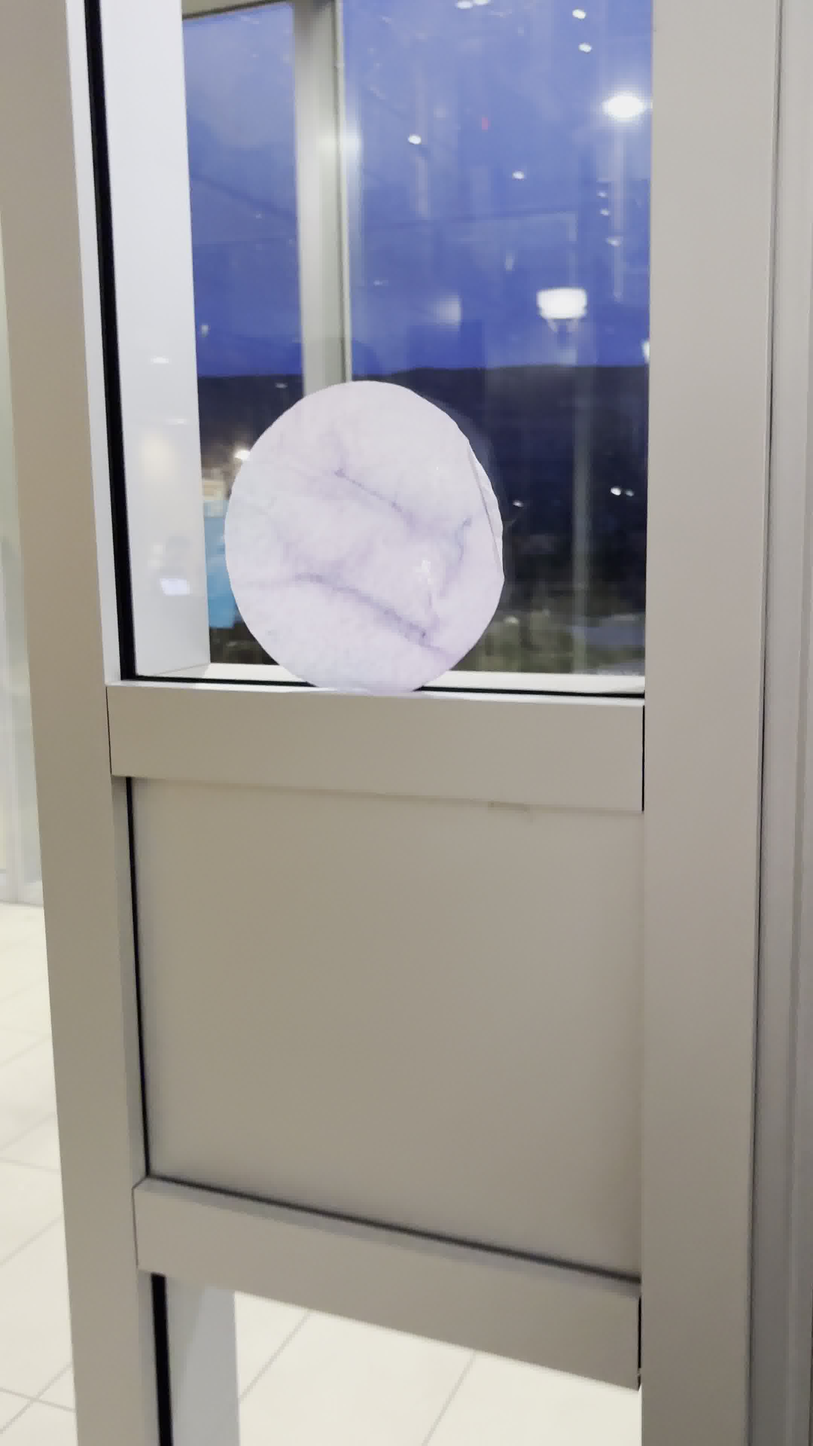Target: (223, 380, 505, 708)
